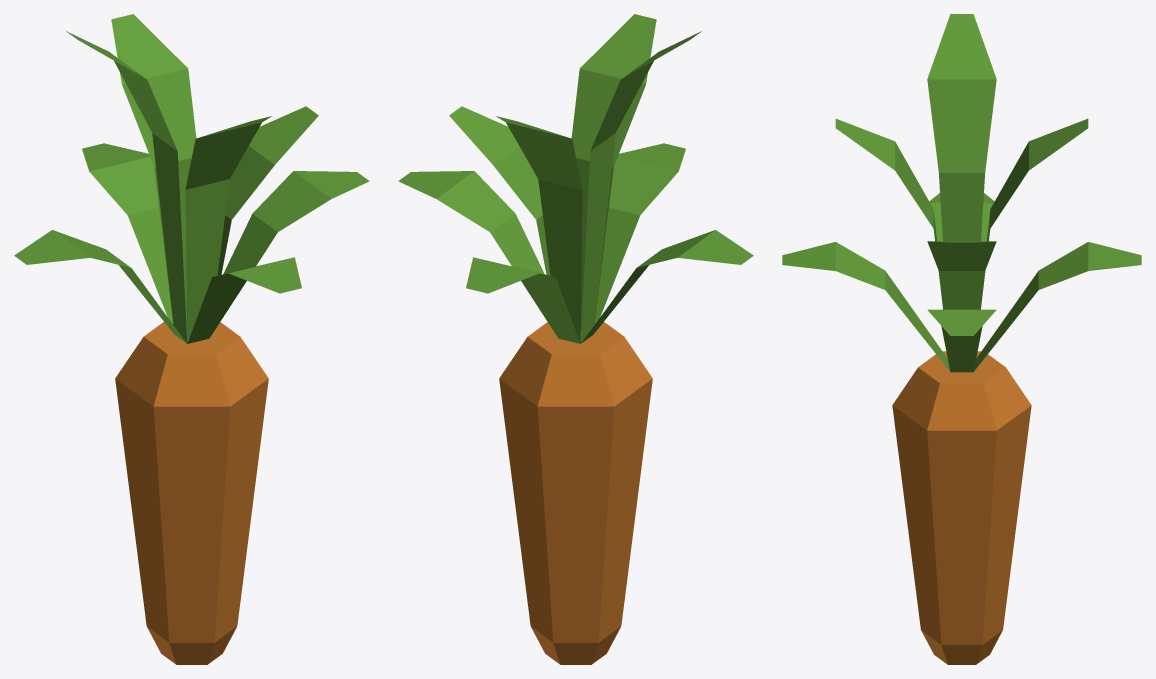
Rendered from crop_carrot.glb.
3 renders of one model, left to right at view 1: azimuth 30°, elevation 25°; view 2: azimuth 150°, elevation 25°; view 3: azimuth 270°, elevation 25°, orthographic. The views are drawn at different scales.
Parts seen in each view (by area): view 1: crop_carrot; view 2: crop_carrot; view 3: crop_carrot.
Boxes of the visible parts, bbox=[...] form: crop_carrot: bbox=[14, 14, 369, 664]; crop_carrot: bbox=[398, 14, 753, 664]; crop_carrot: bbox=[782, 14, 1141, 664].
Bounding box in the file's own units: 0.1939 × 0.35 × 0.1939.
